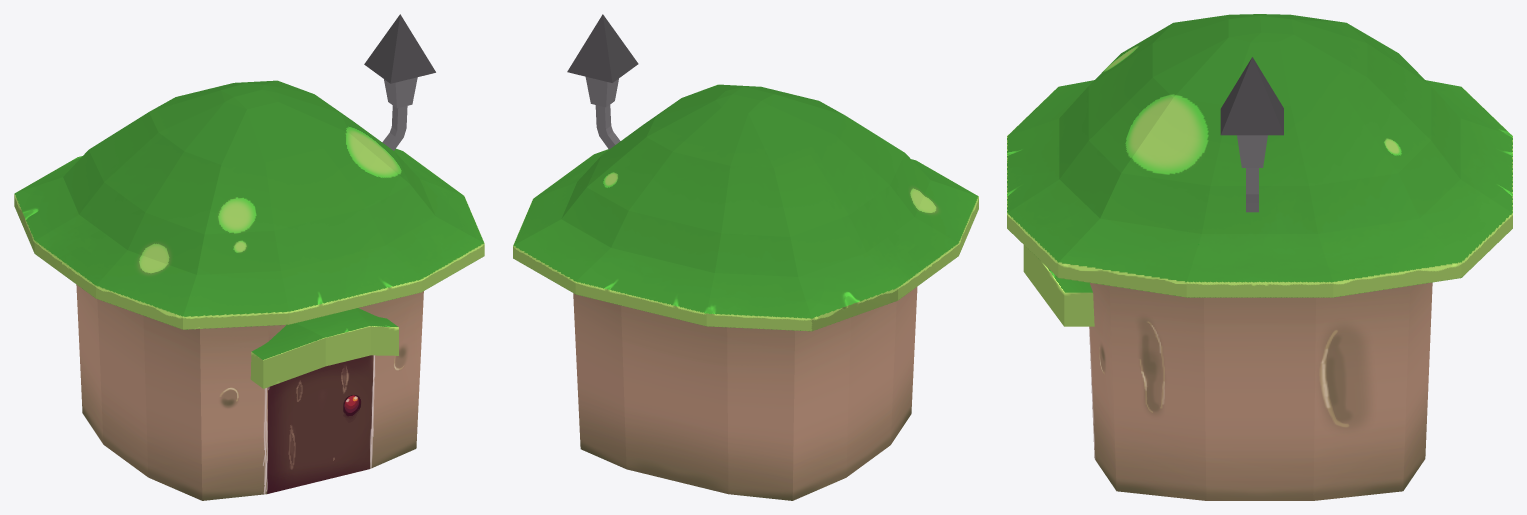
Rendered from mushroom_house_2.gltf.
The picture shows the model from 3 angles, left to right: view 1: azimuth 30°, elevation 25°; view 2: azimuth 150°, elevation 25°; view 3: azimuth 270°, elevation 25°; orthographic projection. The views are drawn at different scales.
Parts seen in each view (by area): view 1: MushroomHouse2Mesh; view 2: MushroomHouse2Mesh; view 3: MushroomHouse2Mesh.
Boxes of the visible parts, left/top/right/bottom form: MushroomHouse2Mesh: left=14, top=14, right=484, bottom=500; MushroomHouse2Mesh: left=513, top=14, right=978, bottom=500; MushroomHouse2Mesh: left=1007, top=14, right=1512, bottom=500.
Size of what is drawn, in the model's own units: 4.41 by 4.39 by 4.39.
Materials: 1 (1 with a texture image).
